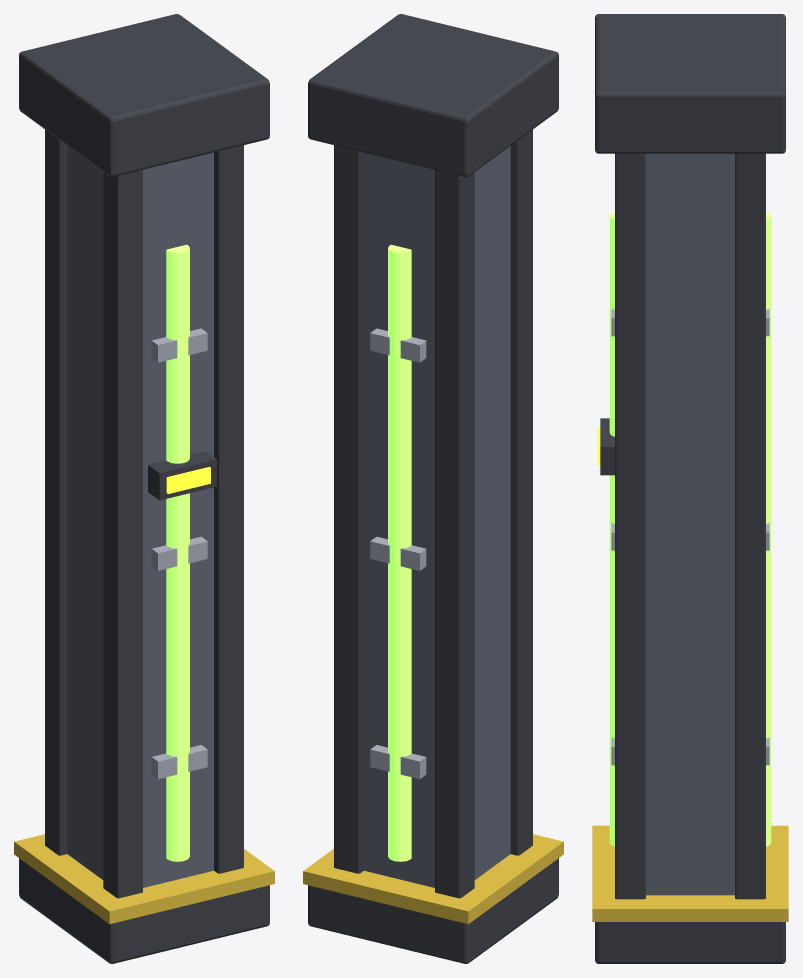
File: pilar_nucleo_tartarus.glb
3 views of the same model, side by side, from view 1: azimuth 30°, elevation 25°; view 2: azimuth 150°, elevation 25°; view 3: azimuth 270°, elevation 25° (orthographic). The views are drawn at different scales.
Visible parts, largest first — view 1: Nucleo_Columna, Capitel, Contrafuerte_-0.66_-0.66, Contrafuerte_0.66_-0.66, Contrafuerte_-0.66_0.66, Conducto_Plut_-0.75, Pedestal_Base, Pedestal_Banda, Foco_Caja, Abrazadera1_-0.75, Abrazadera2_-0.75, Abrazadera3_-0.75 (+1 smaller); view 2: Nucleo_Columna, Capitel, Contrafuerte_-0.66_0.66, Contrafuerte_0.66_0.66, Contrafuerte_-0.66_-0.66, Conducto_Plut_0.75, Pedestal_Base, Pedestal_Banda, Abrazadera1_0.75, Abrazadera2_0.75, Abrazadera3_0.75; view 3: Nucleo_Columna, Capitel, Contrafuerte_0.66_0.66, Contrafuerte_0.66_-0.66, Pedestal_Banda, Pedestal_Base, Conducto_Plut_0.75, Conducto_Plut_-0.75, Foco_Caja.
Part boxes in pixels (left/top/right/bottom): Nucleo_Columna: left=67, top=146, right=213, bottom=887; Capitel: left=19, top=14, right=269, bottom=176; Contrafuerte_-0.66_-0.66: left=103, top=170, right=142, bottom=898; Contrafuerte_0.66_-0.66: left=214, top=145, right=243, bottom=873; Contrafuerte_-0.66_0.66: left=45, top=129, right=67, bottom=855; Conducto_Plut_-0.75: left=166, top=244, right=189, bottom=861; Pedestal_Base: left=19, top=858, right=269, bottom=963; Pedestal_Banda: left=14, top=834, right=274, bottom=924; Foco_Caja: left=148, top=451, right=216, bottom=500; Abrazadera1_-0.75: left=151, top=745, right=207, bottom=779; Abrazadera2_-0.75: left=151, top=536, right=207, bottom=570; Abrazadera3_-0.75: left=151, top=328, right=207, bottom=362; Nucleo_Columna: left=364, top=146, right=510, bottom=887; Capitel: left=308, top=14, right=558, bottom=176; Contrafuerte_-0.66_0.66: left=435, top=170, right=474, bottom=898; Contrafuerte_0.66_0.66: left=334, top=145, right=363, bottom=873; Contrafuerte_-0.66_-0.66: left=510, top=129, right=532, bottom=855; Conducto_Plut_0.75: left=388, top=244, right=411, bottom=861; Pedestal_Base: left=308, top=858, right=558, bottom=963; Pedestal_Banda: left=303, top=834, right=563, bottom=924; Abrazadera1_0.75: left=370, top=745, right=426, bottom=779; Abrazadera2_0.75: left=370, top=536, right=426, bottom=570; Abrazadera3_0.75: left=370, top=328, right=426, bottom=362; Nucleo_Columna: left=646, top=153, right=734, bottom=895; Capitel: left=595, top=14, right=785, bottom=153; Contrafuerte_0.66_0.66: left=735, top=153, right=765, bottom=899; Contrafuerte_0.66_-0.66: left=615, top=153, right=645, bottom=899; Pedestal_Banda: left=592, top=825, right=788, bottom=921; Pedestal_Base: left=595, top=922, right=785, bottom=963; Conducto_Plut_0.75: left=766, top=211, right=771, bottom=846; Conducto_Plut_-0.75: left=609, top=211, right=614, bottom=846; Foco_Caja: left=600, top=418, right=614, bottom=475.
Bounding box in the file's own units: 2.16 × 10.57 × 2.16.
